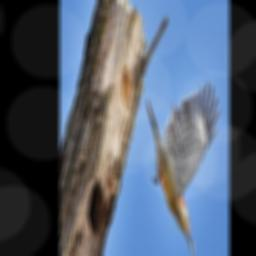Woodpecker: (147, 77, 221, 256)
